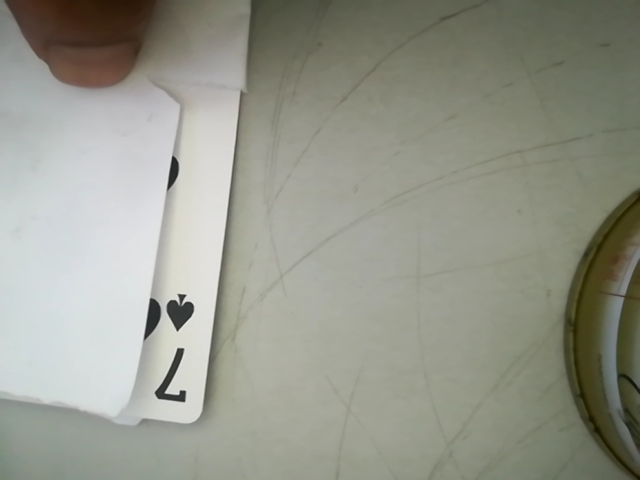ht 7: (132, 277, 208, 420)
